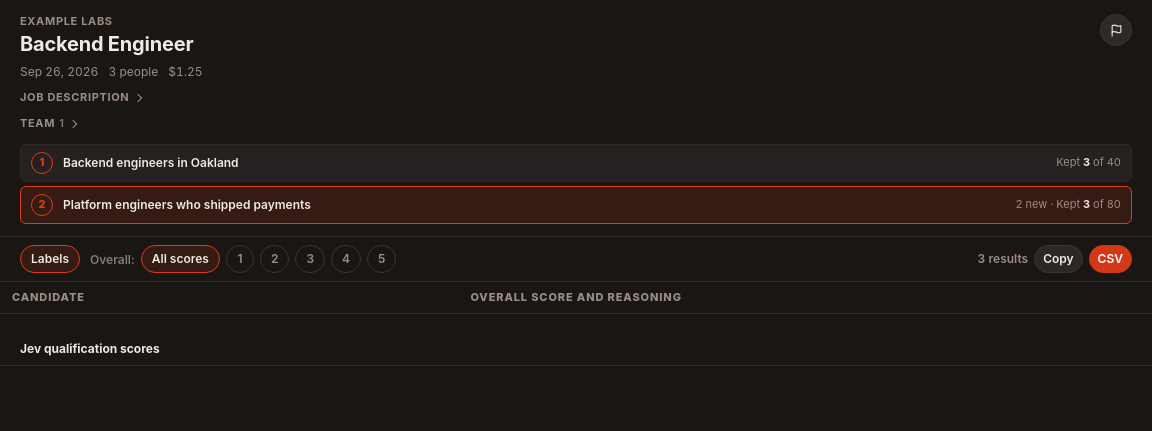
Scenario: RunView › shows every source family, email and message counts, and where the person is
Click the button "Kept".
click(187, 205)  # box [20,186,1132,224]
(page scrolled)
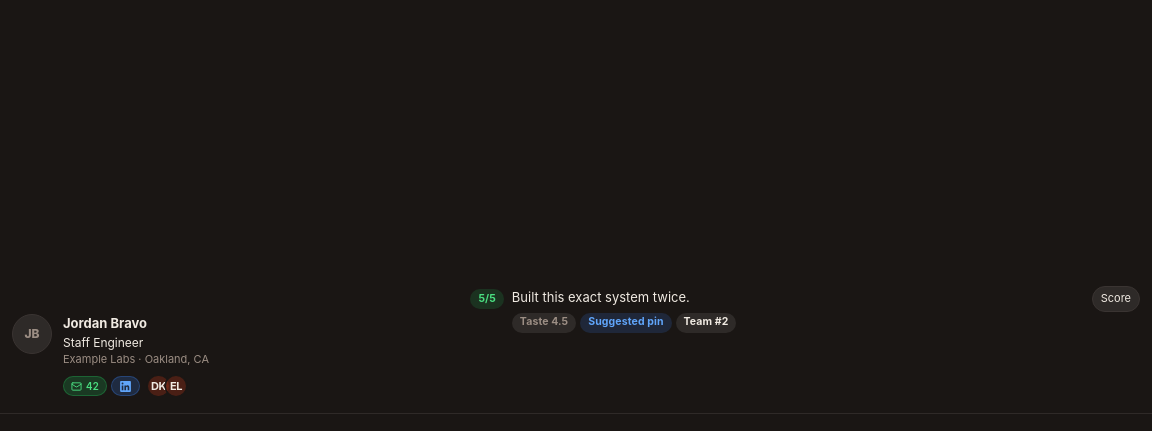
Expected: the element titled "Gmail" reads "42", [86,380,99,392]
Expected: the text "Staff Engineer" is shown, [63,335,143,350]
Expected: the text "Example Labs · Oakland, CA" is shown, [63,352,209,366]
